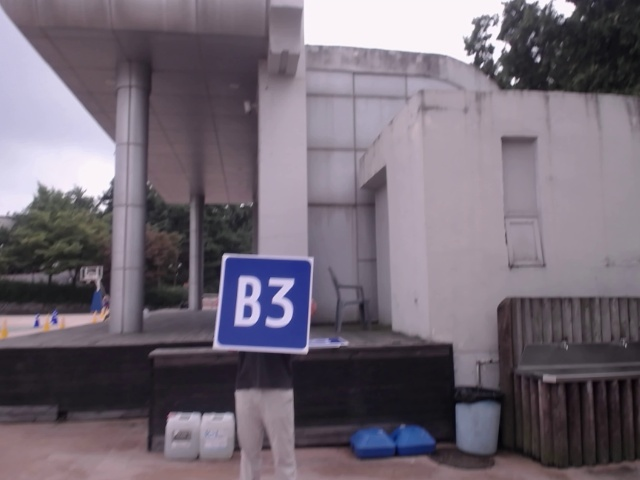delivery_b3: (220, 256, 309, 351)
